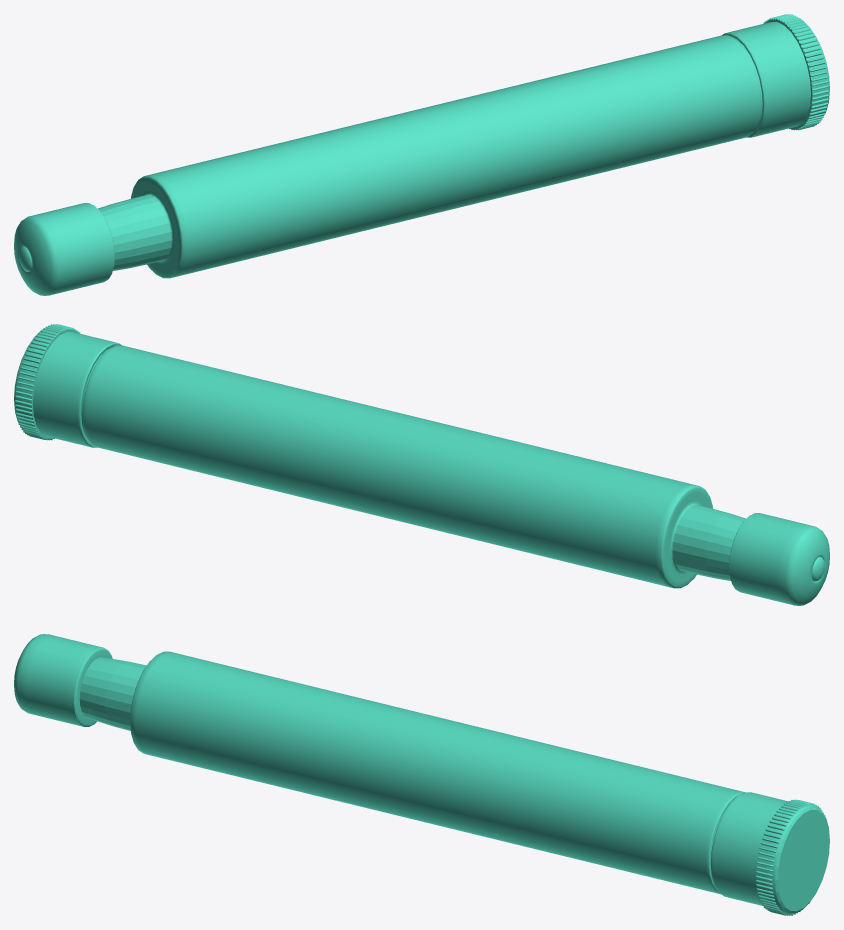
Rendered from AutoinjectorATNAA.FBX.
The picture shows the model from 3 angles, top to bottom: view 1: azimuth 30°, elevation 25°; view 2: azimuth 150°, elevation 25°; view 3: azimuth 330°, elevation 25°; orthographic projection.
Visible parts, largest first — view 1: AutoinjectorATNAA; view 2: AutoinjectorATNAA; view 3: AutoinjectorATNAA.
Part boxes in pixels (bbox=[...]): AutoinjectorATNAA: bbox=[14, 14, 829, 295]; AutoinjectorATNAA: bbox=[14, 324, 829, 605]; AutoinjectorATNAA: bbox=[14, 634, 829, 915].
Bounding box in the file's own units: 14.83 × 1.9 × 1.9.
